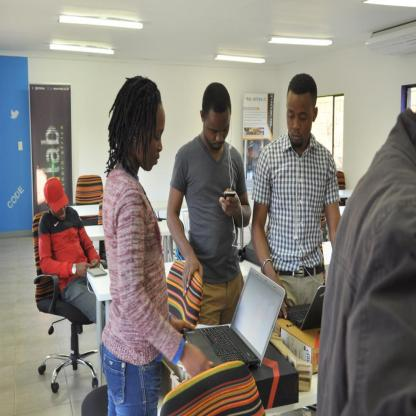board: (191, 259, 292, 377), (284, 284, 326, 332)
